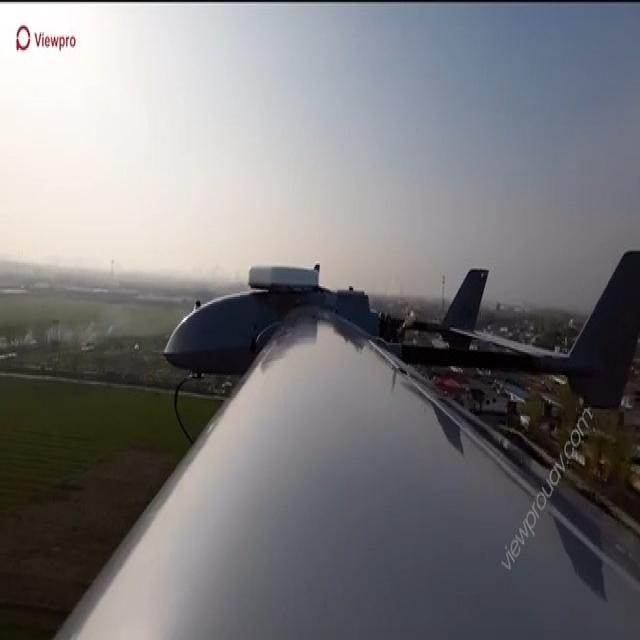drones: (161, 220, 640, 593)
